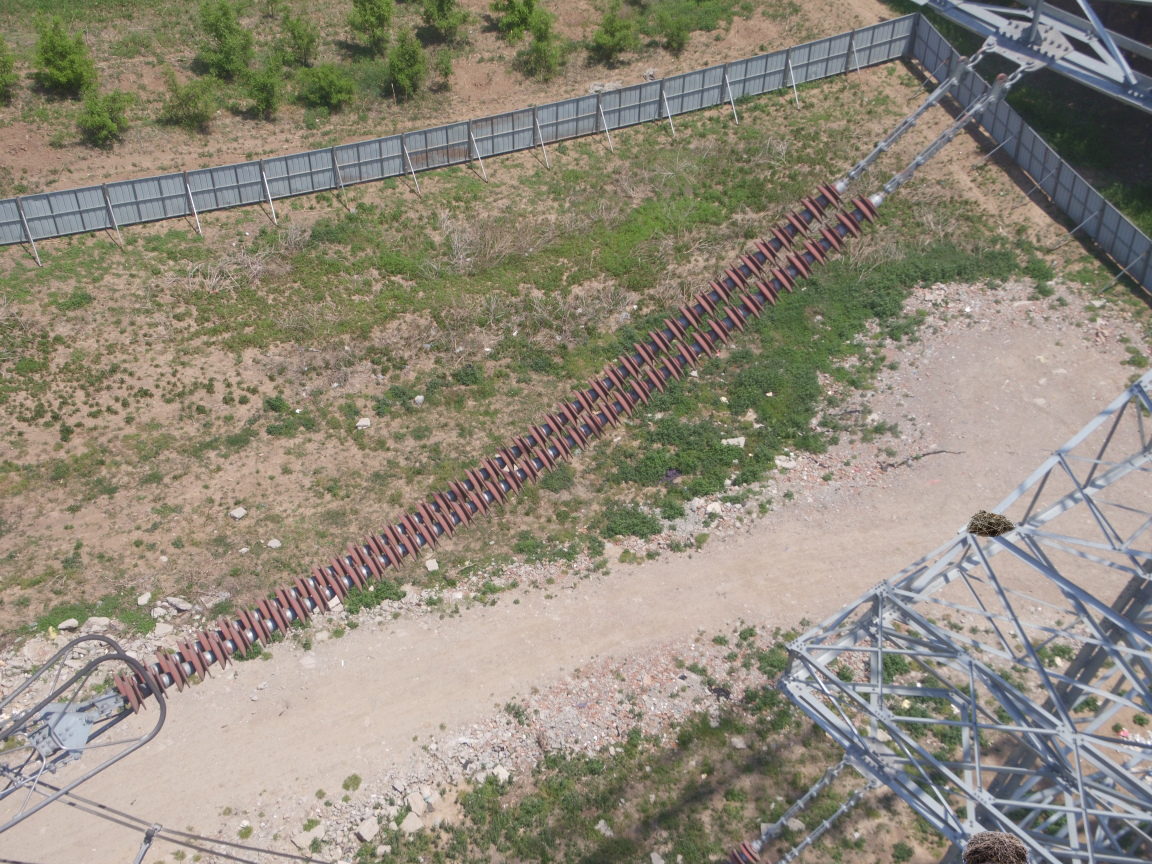nest: (957, 825, 1031, 864), (959, 505, 1021, 542)
